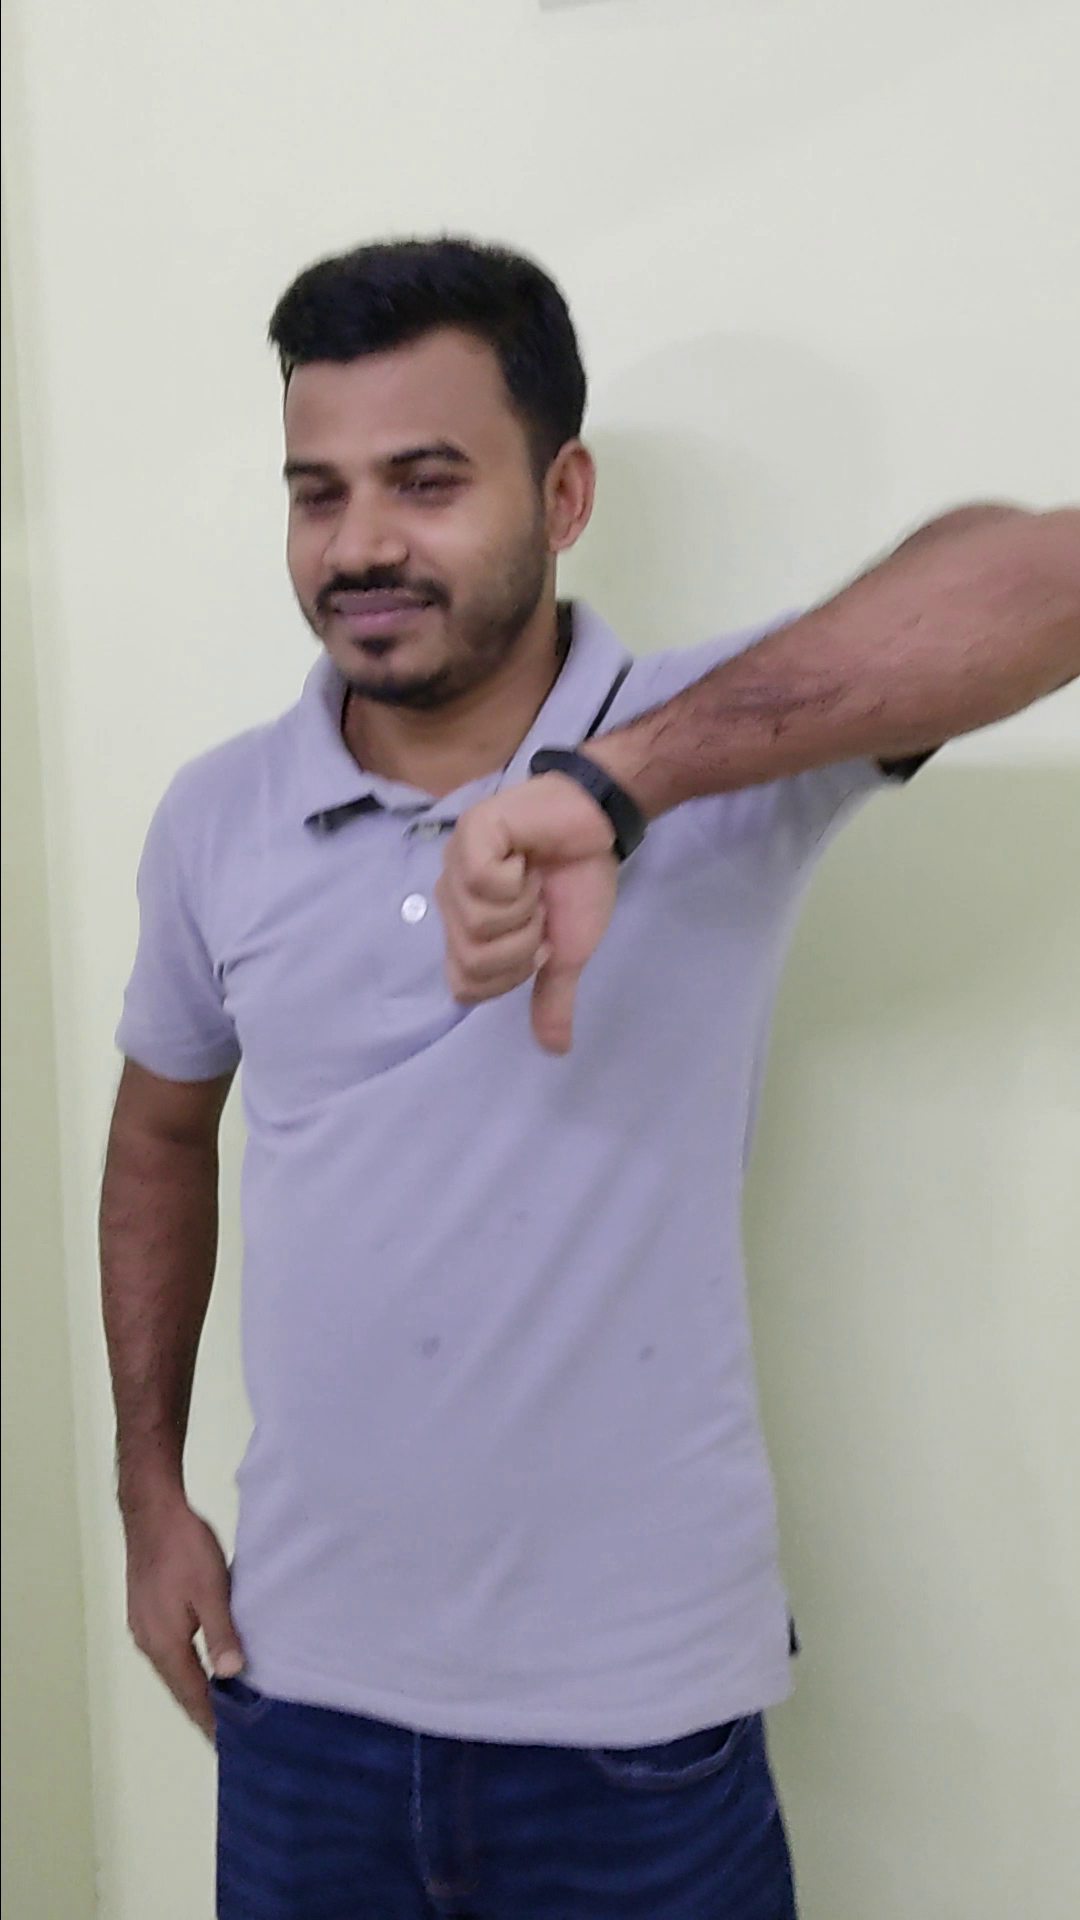Dislike: (409, 735, 634, 1068)
None: (102, 1460, 249, 1753)
